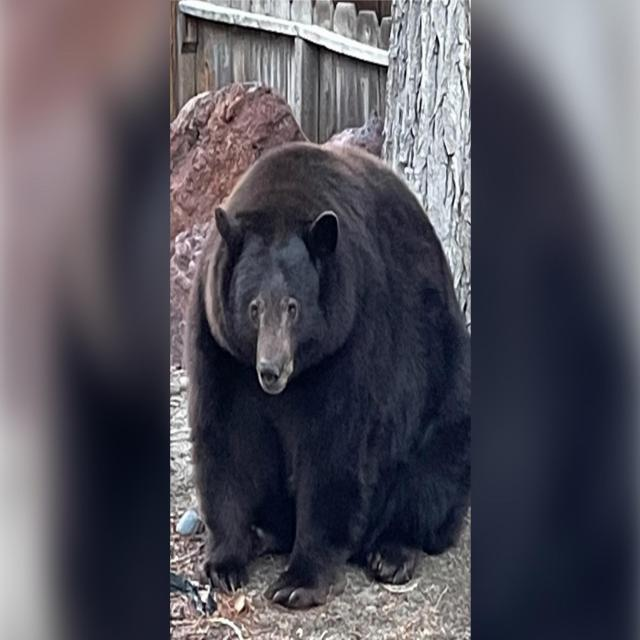Bear: (190, 142, 471, 613)
